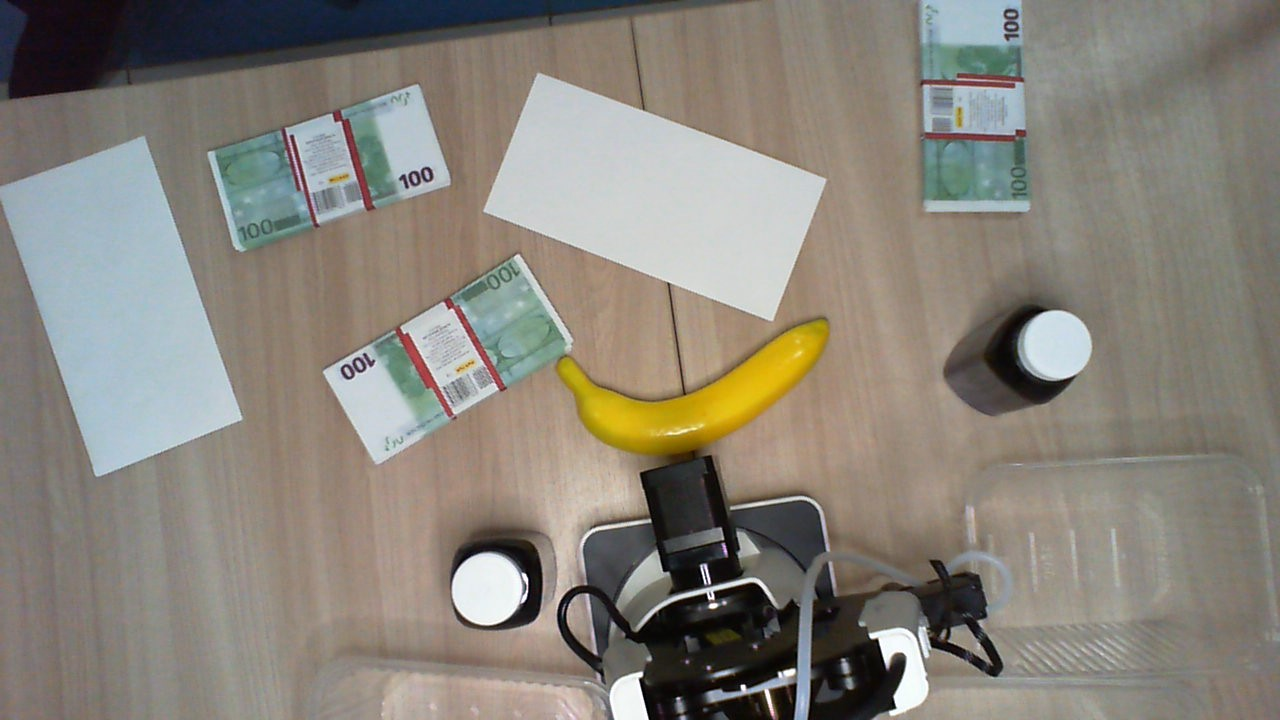banana: (561, 275, 829, 460)
bottle: (987, 300, 1098, 396), (448, 539, 546, 630)
convert: (482, 70, 825, 325), (1, 134, 241, 479)
money: (321, 251, 573, 466), (206, 81, 453, 254), (919, 1, 1026, 216)
